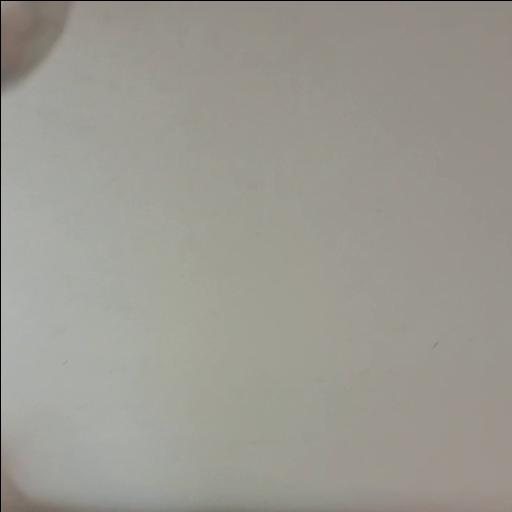alive: (3, 7, 74, 102)
